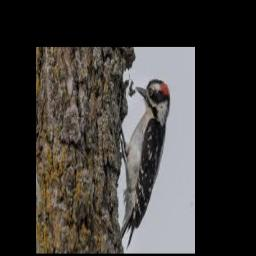Woodpecker: (120, 79, 171, 251)
